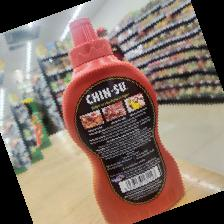Chinsu: (60, 13, 187, 224)
